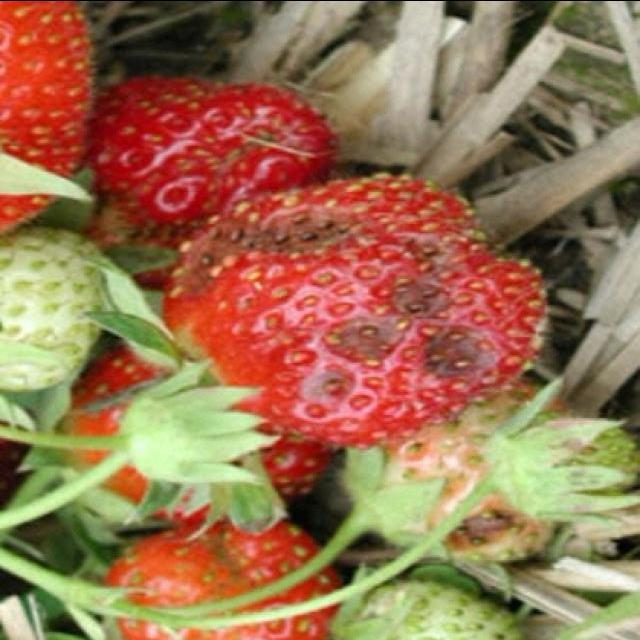Anthracnose Fruit Rot: (171, 197, 494, 408), (388, 381, 560, 564)
